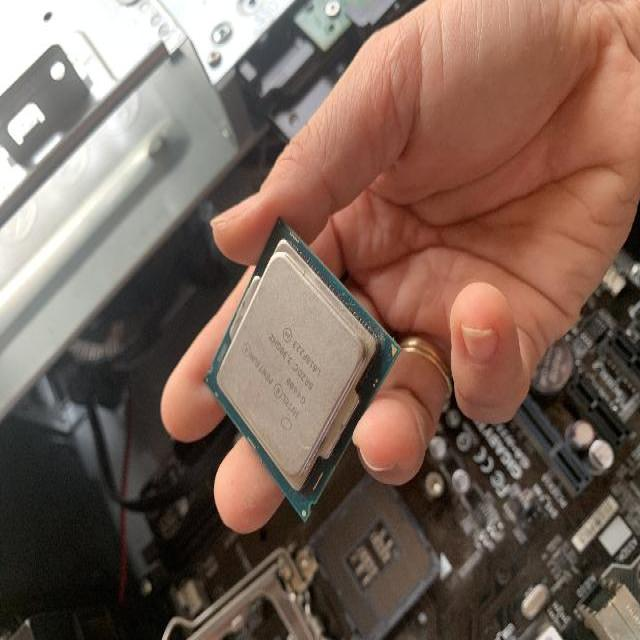CPU: (202, 216, 400, 524)
